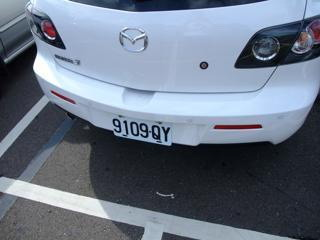plate: (108, 112, 173, 147)
